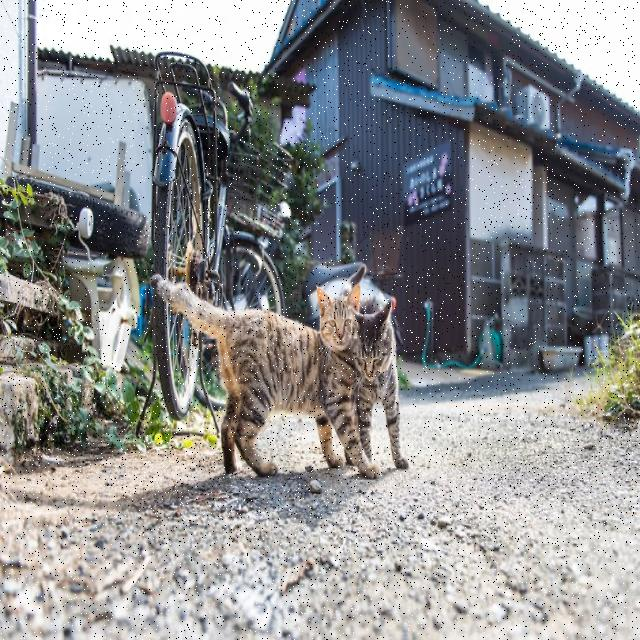cat: (152, 274, 379, 477), (354, 298, 409, 468)
